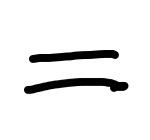eqv: (24, 50, 129, 94)
